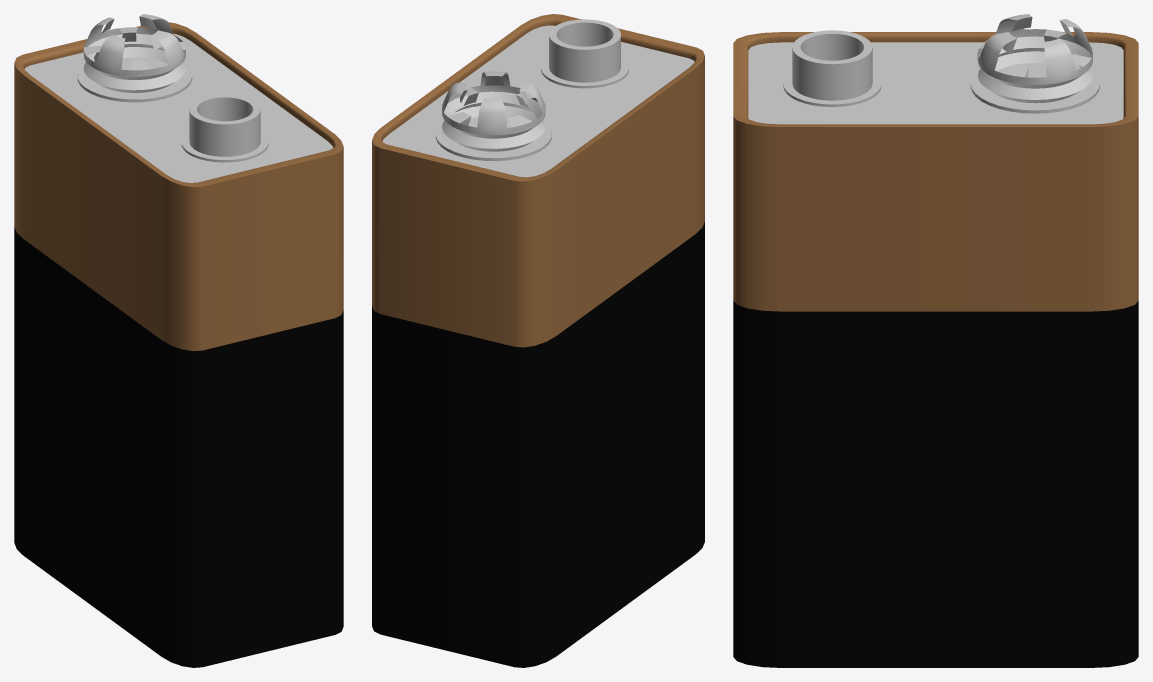
The model's file is battery9V.fbx.
The picture shows the model from 3 angles, left to right: view 1: azimuth 30°, elevation 25°; view 2: azimuth 150°, elevation 25°; view 3: azimuth 270°, elevation 25°; orthographic projection. The views are drawn at different scales.
Parts seen in each view (by area): view 1: Cube, Cube.001, Circle.001, Circle; view 2: Cube, Cube.001, Circle.001, Circle; view 3: Cube, Cube.001, Circle.001, Circle.
Boxes of the visible parts, left/top/right/bottom form: Cube: left=14, top=22, right=343, bottom=667; Cube.001: left=24, top=33, right=332, bottom=182; Circle.001: left=77, top=14, right=192, bottom=102; Circle: left=181, top=94, right=268, bottom=162; Cube: left=372, top=14, right=704, bottom=667; Cube.001: left=382, top=25, right=694, bottom=177; Circle.001: left=435, top=71, right=551, bottom=160; Circle: left=541, top=19, right=628, bottom=88; Cube: left=733, top=32, right=1138, bottom=667; Cube.001: left=748, top=42, right=1123, bottom=124; Circle.001: left=970, top=14, right=1099, bottom=113; Circle: left=783, top=30, right=881, bottom=106.
Bounding box in the file's own units: 286 × 830 × 517.
